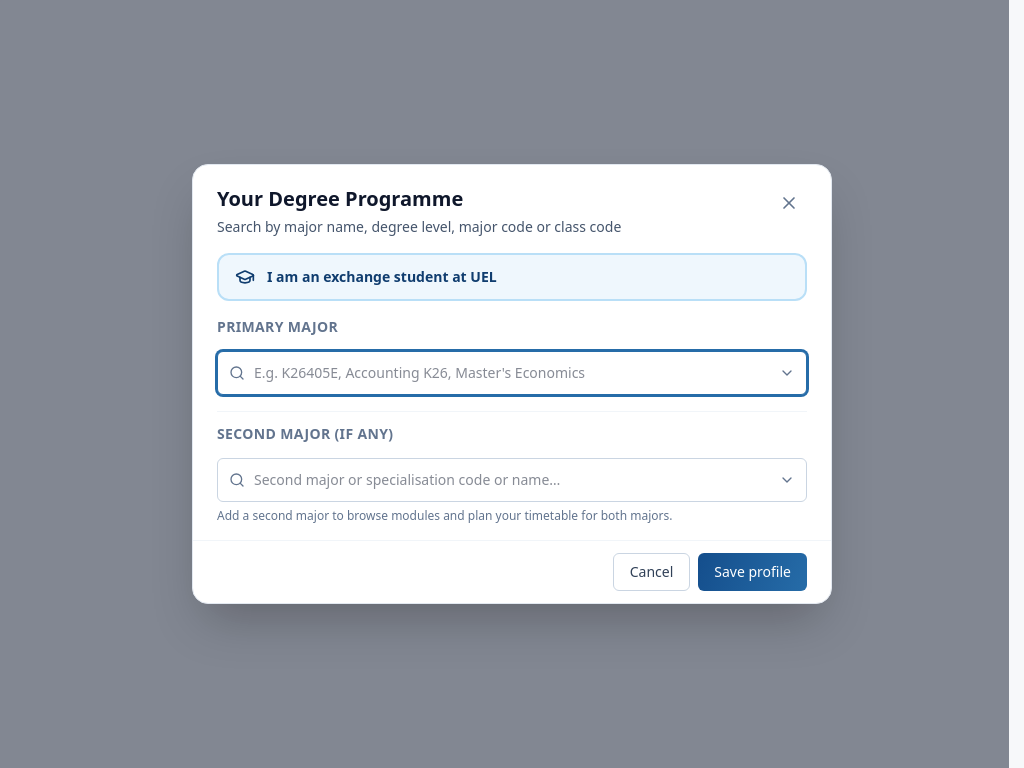
ProgramProfileDialog › still rejects an invalid major code even with nothing else filled in
Type "ZZZ999" into the field labelled "Primary Major" at (512, 373), box [217,351,807,395]
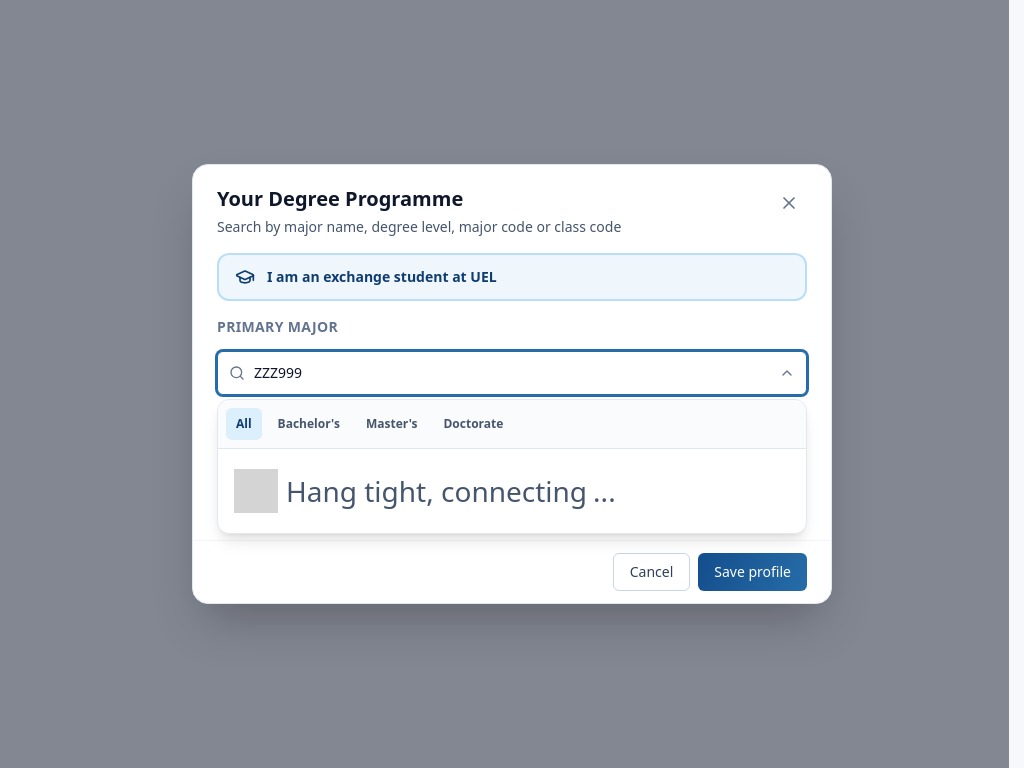
Click the button "Save profile" at (753, 572), box [698,553,807,591]
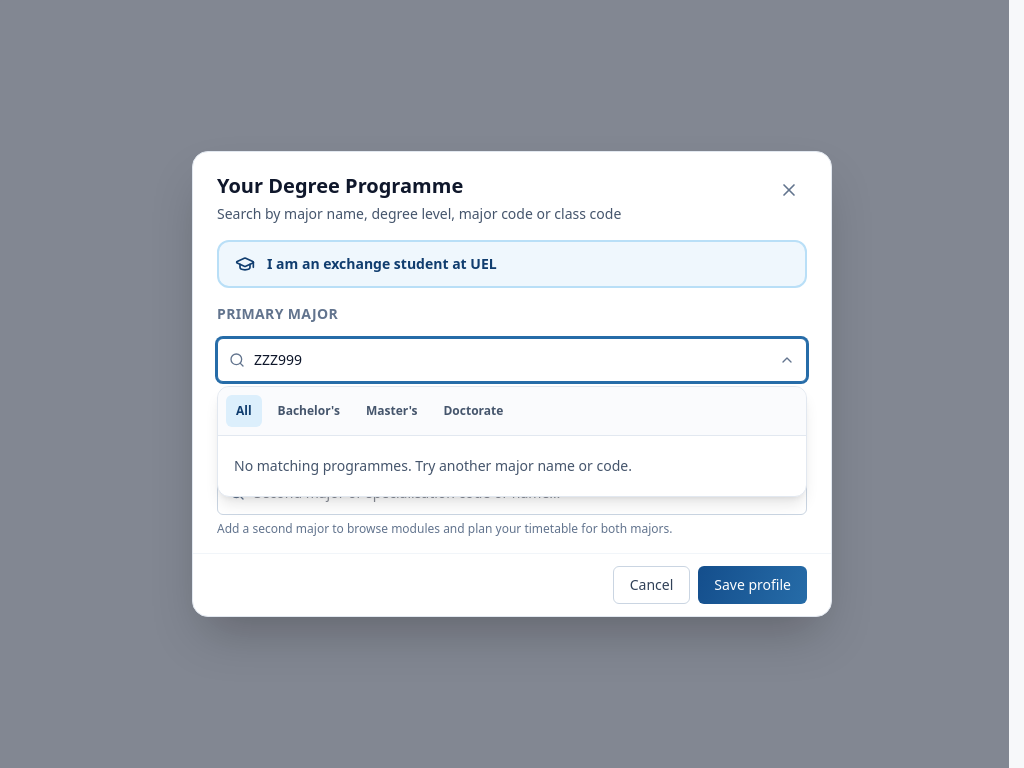
Expected: the message "Choose a result or enter a full code such as K26405E, M601NC or N701." is shown, [217,388,683,407]
